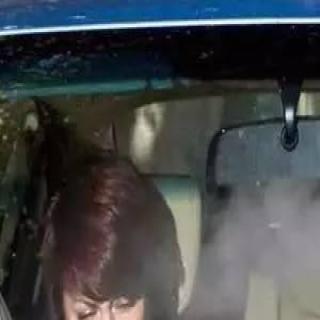smoke: (203, 195, 320, 315)
